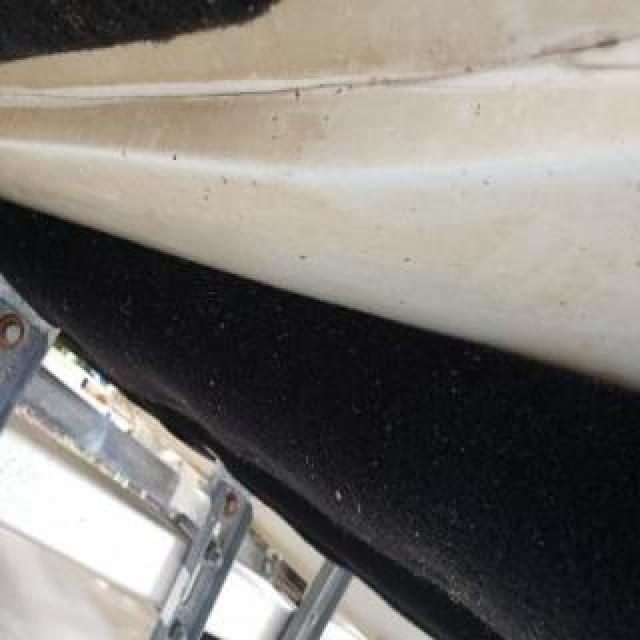crack: (0, 22, 636, 104)
